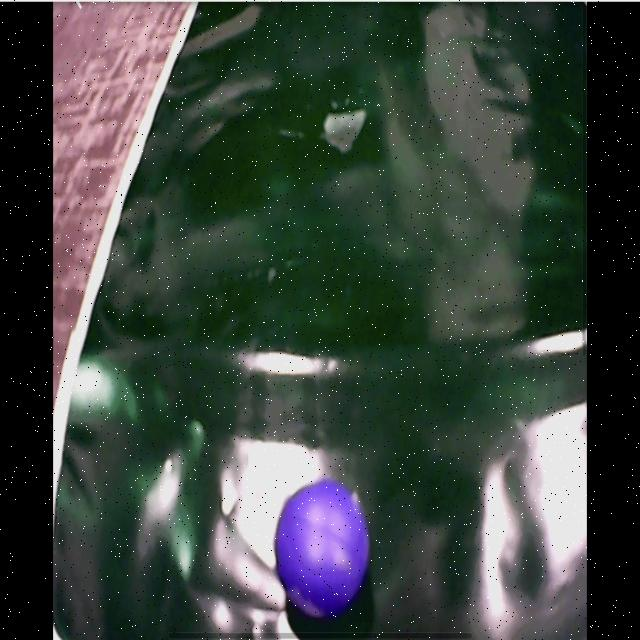ball: (274, 477, 372, 615)
